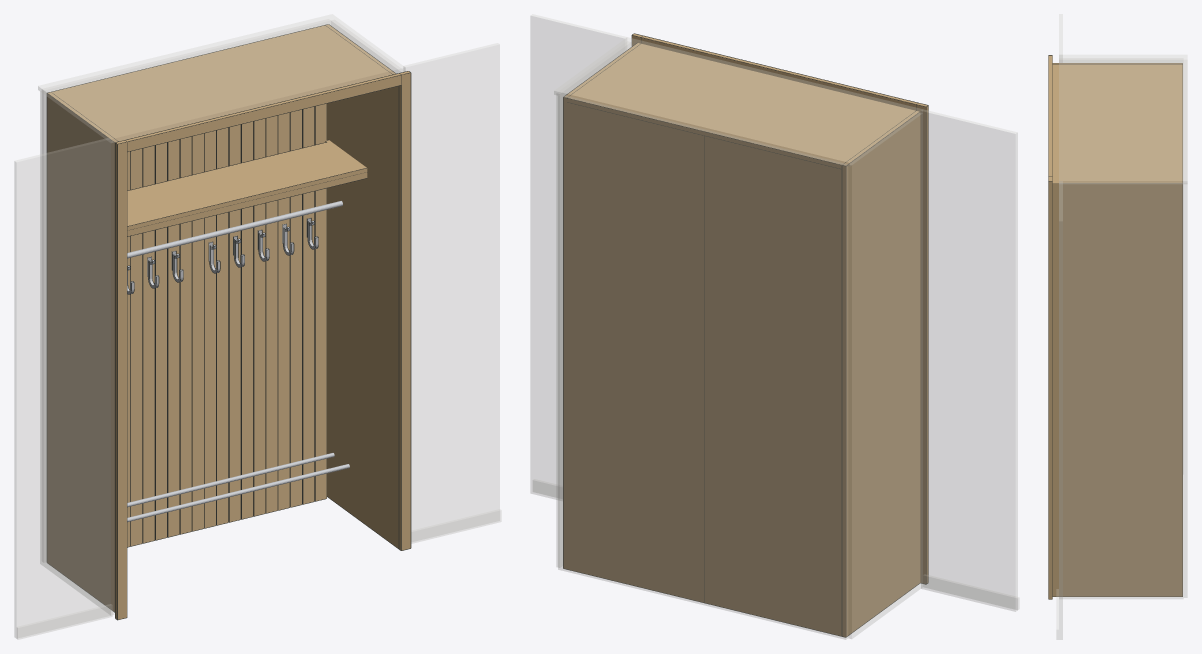
The model's file is modell.glb.
The picture shows the model from 3 angles, left to right: view 1: azimuth 30°, elevation 25°; view 2: azimuth 150°, elevation 25°; view 3: azimuth 270°, elevation 25°; orthographic projection. The views are drawn at different scales.
Bounding box in the file's own units: 2560 × 2412 × 726.
